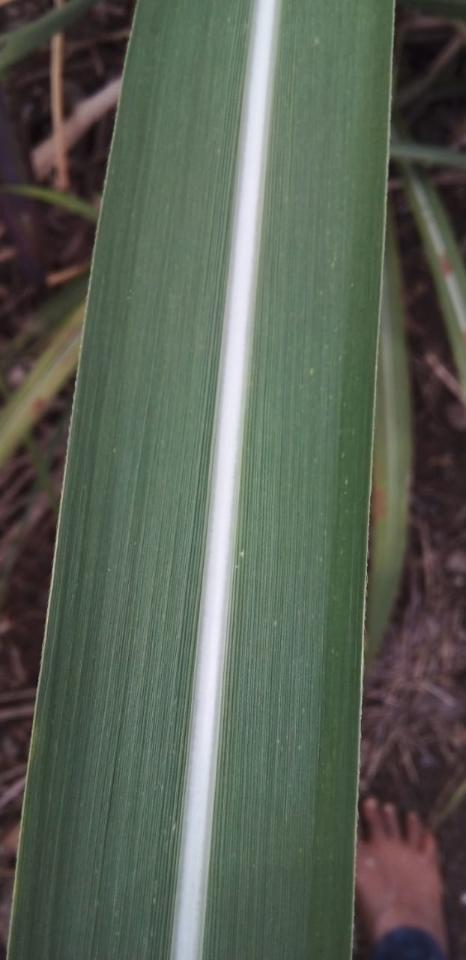Healthy: (8, 0, 393, 959)
